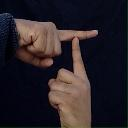hand: (13, 17, 98, 68), (47, 35, 92, 127)
